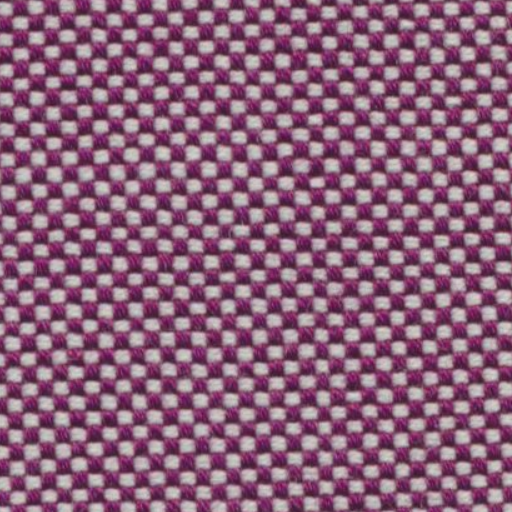TuoSha: (18, 213, 494, 273)
